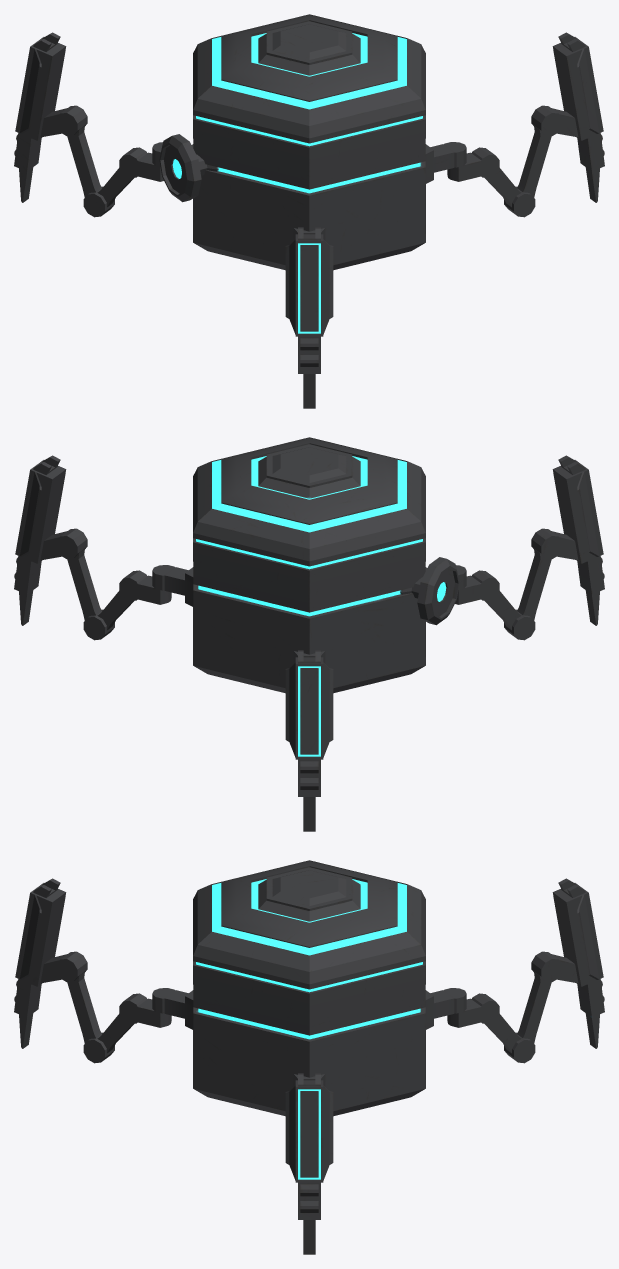
Rendered from Avatar Phage.glb.
3 views of the same model, one above another, from view 1: azimuth 30°, elevation 25°; view 2: azimuth 150°, elevation 25°; view 3: azimuth 270°, elevation 25° (orthographic).
Parts seen in each view (by area): view 1: Body; view 2: Body; view 3: Body.
Boxes of the visible parts, bbox=[...] form: Body: bbox=[14, 14, 604, 408]; Body: bbox=[14, 437, 604, 831]; Body: bbox=[14, 860, 604, 1254].
Bounding box in the file's own units: 28.67 × 14.28 × 32.99.
Materials: 1 (1 with a texture image).
